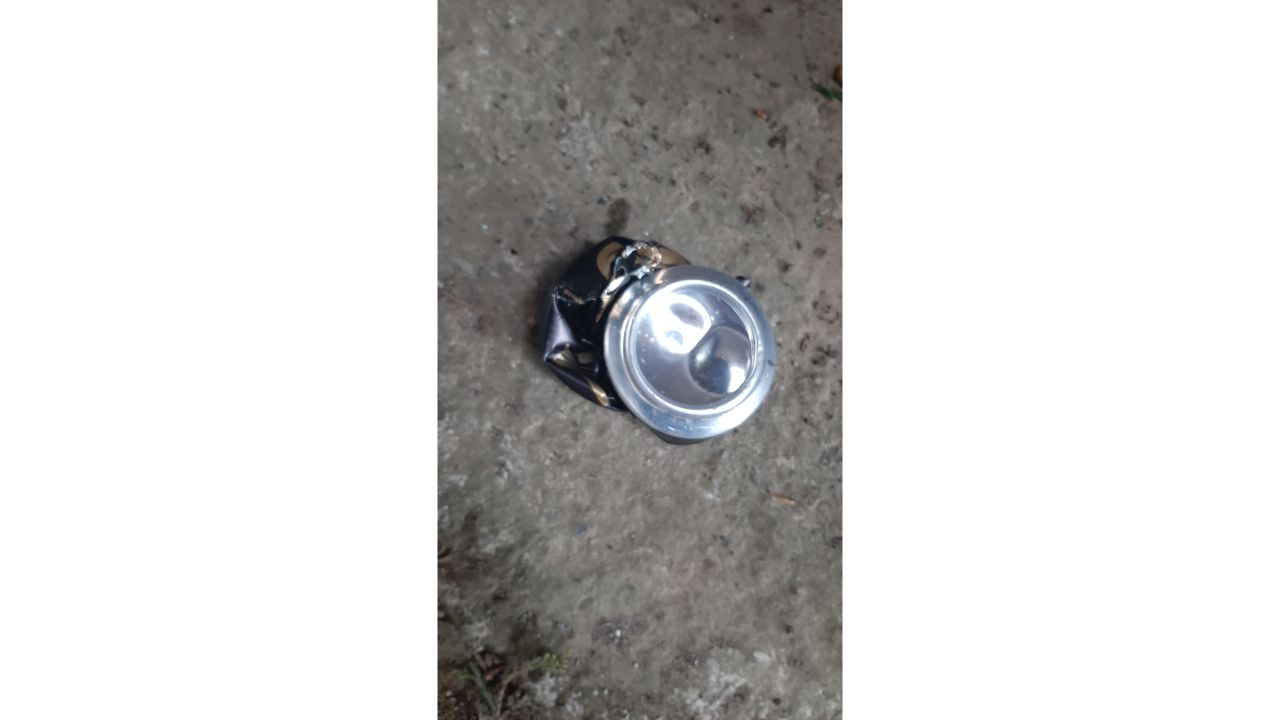Can: (540, 236, 775, 450)
